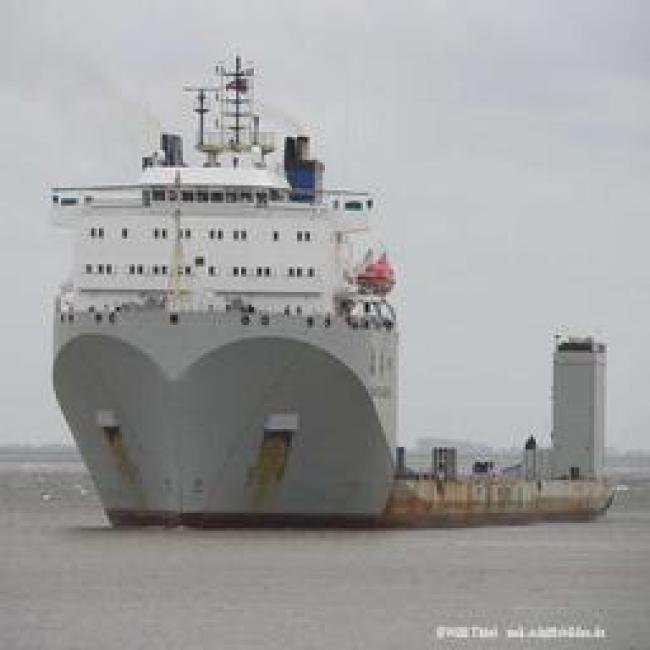Ship: (14, 106, 484, 546)
